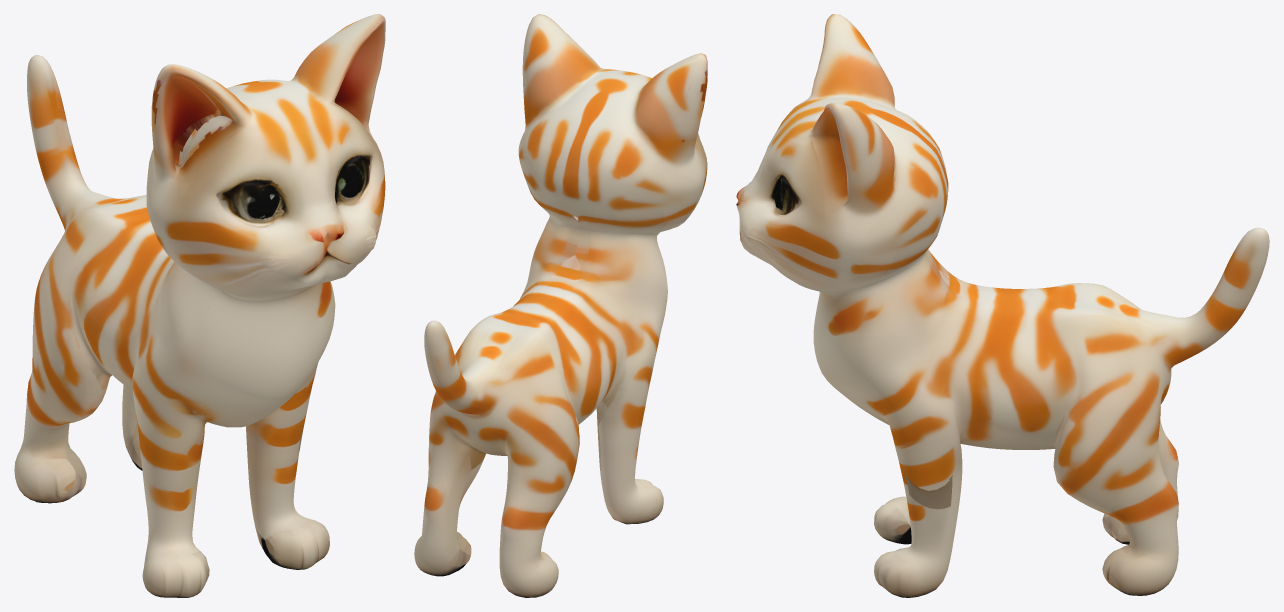
The model's file is cat.glb.
The picture shows the model from 3 angles, left to right: view 1: azimuth 30°, elevation 25°; view 2: azimuth 150°, elevation 25°; view 3: azimuth 270°, elevation 25°; orthographic projection. The views are drawn at different scales.
Visible parts, largest first — view 1: model; view 2: model; view 3: model.
Part boxes in pixels (<box>): model: <box>14,14,385,597</box>; model: <box>414,14,707,597</box>; model: <box>736,14,1269,597</box>.
Bounding box in the file's own units: 0.8002 × 1.89 × 1.81.
1 material, 1 textured.
